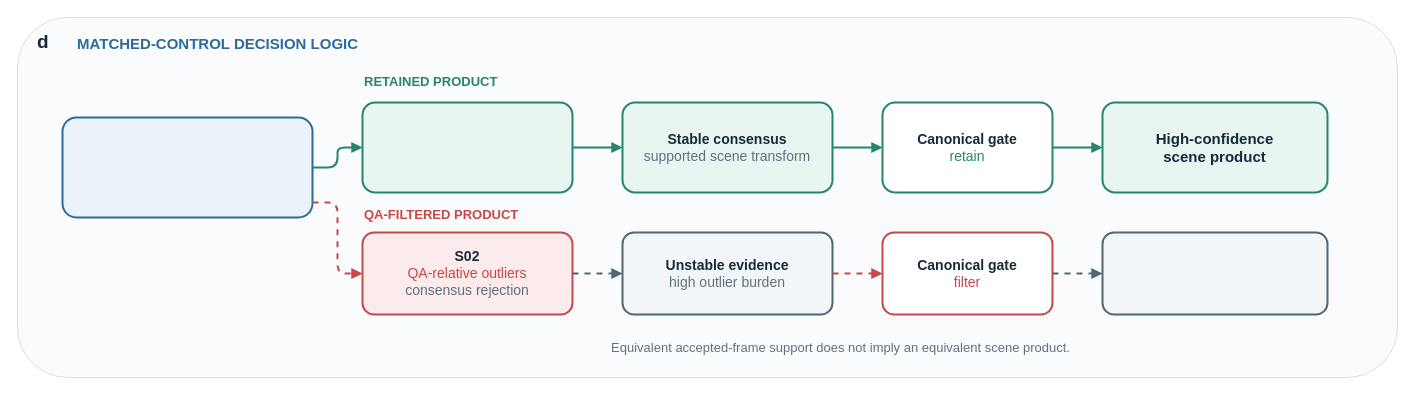
Image size: 1415x395. Some labels were removed from this diagram. Each missing label, with the box of its shape:
Matched pairwise support S01 and S02: 49/50 frames accepted: (61, 116, 313, 218)
QA-filtered scene diagnostics retained: (1101, 231, 1328, 315)
S01 0 severe outliers 0.0% robust rejection: (361, 101, 573, 193)
